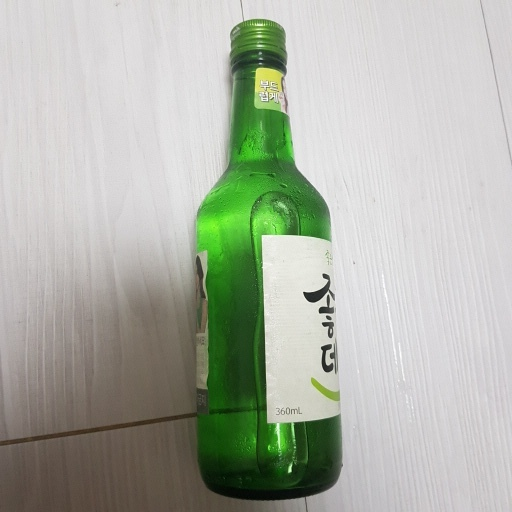Glass_0: (190, 13, 357, 504)
